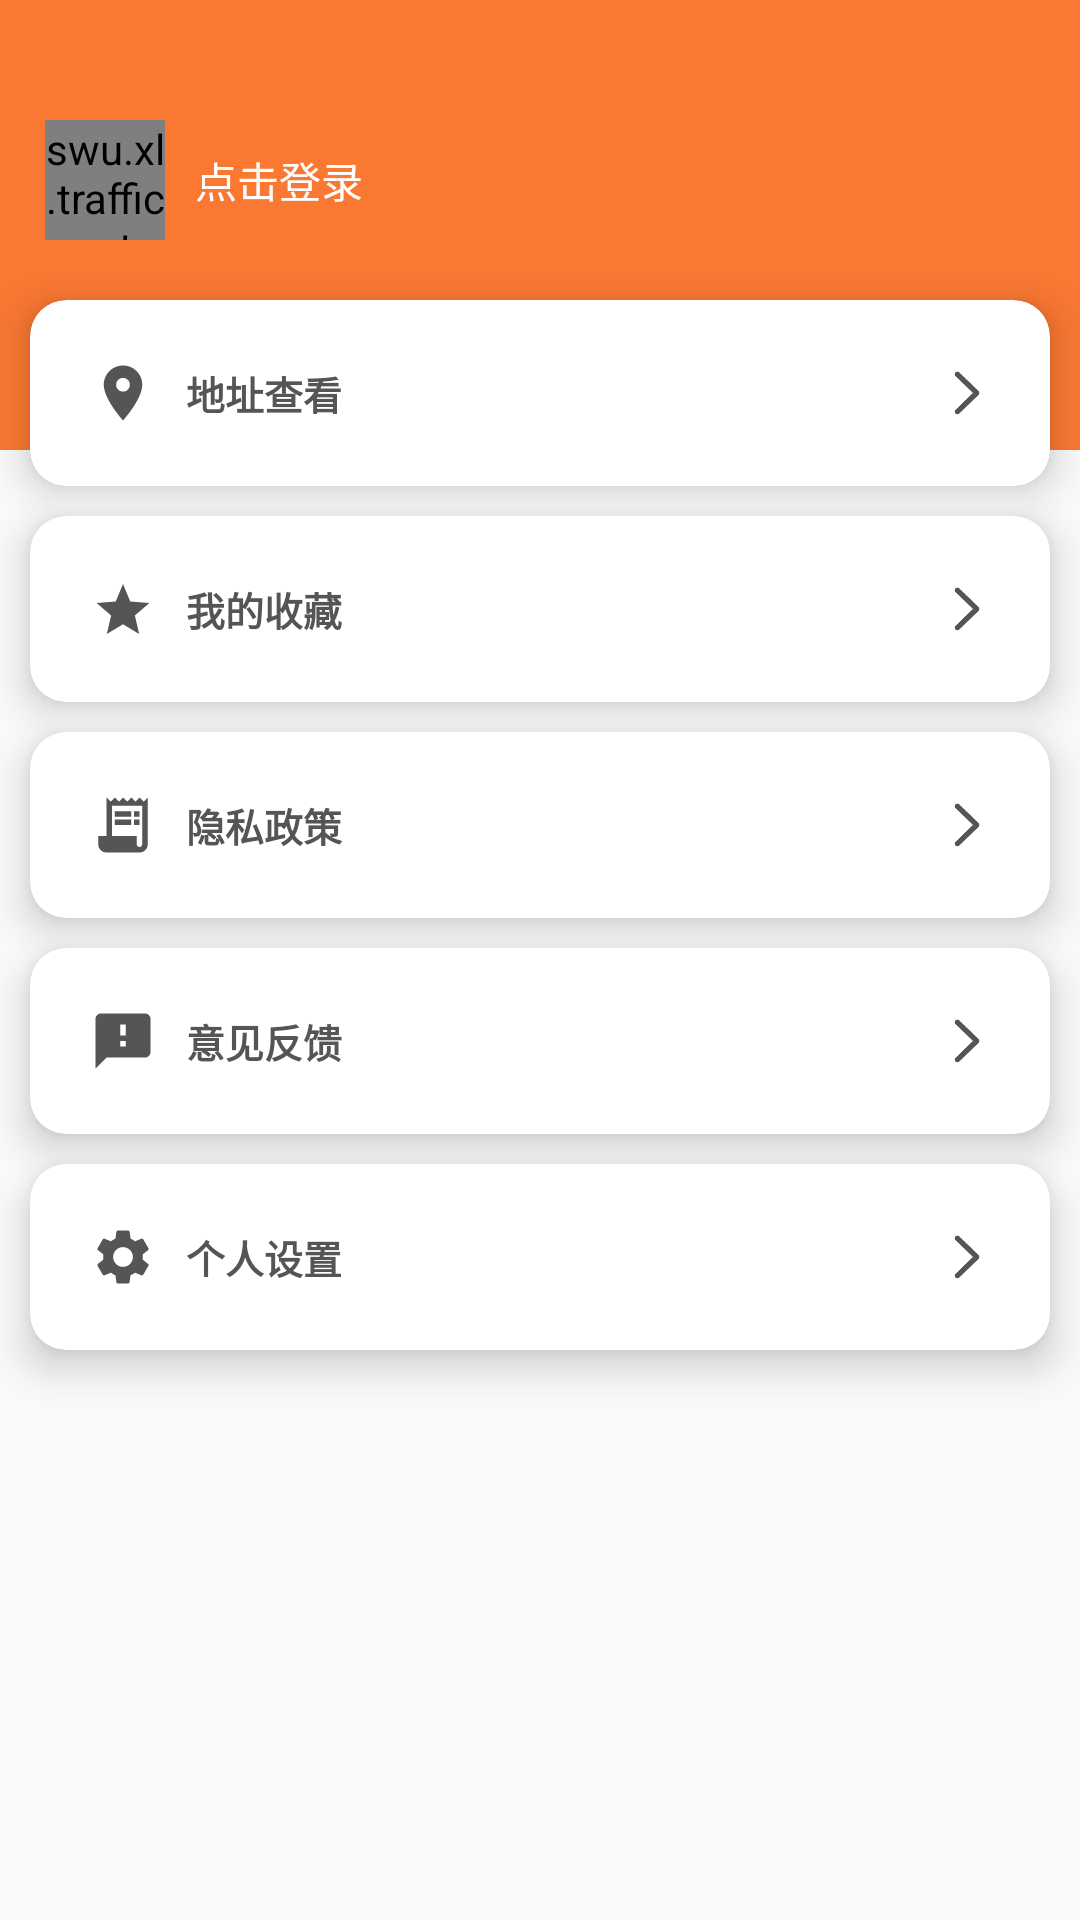

Where to tap for icons on this 1080px×1920px app screen, as (x,y):
user document: (123,825)
user feedback: (123,1041)
user location: (123,392)
user next: (967,393), (967,609), (967,825), (967,1041), (967,1257)
user setting: (123,1257)
